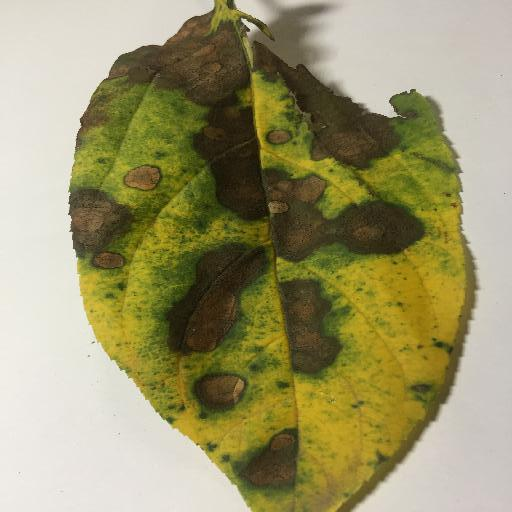Brown_Spot: (261, 172, 425, 255), (265, 54, 380, 163), (123, 17, 240, 96), (177, 255, 268, 348), (198, 109, 261, 218), (284, 278, 323, 372), (252, 430, 295, 484), (76, 192, 116, 242), (117, 162, 162, 187), (197, 380, 239, 402), (93, 252, 124, 267), (268, 127, 289, 144)
